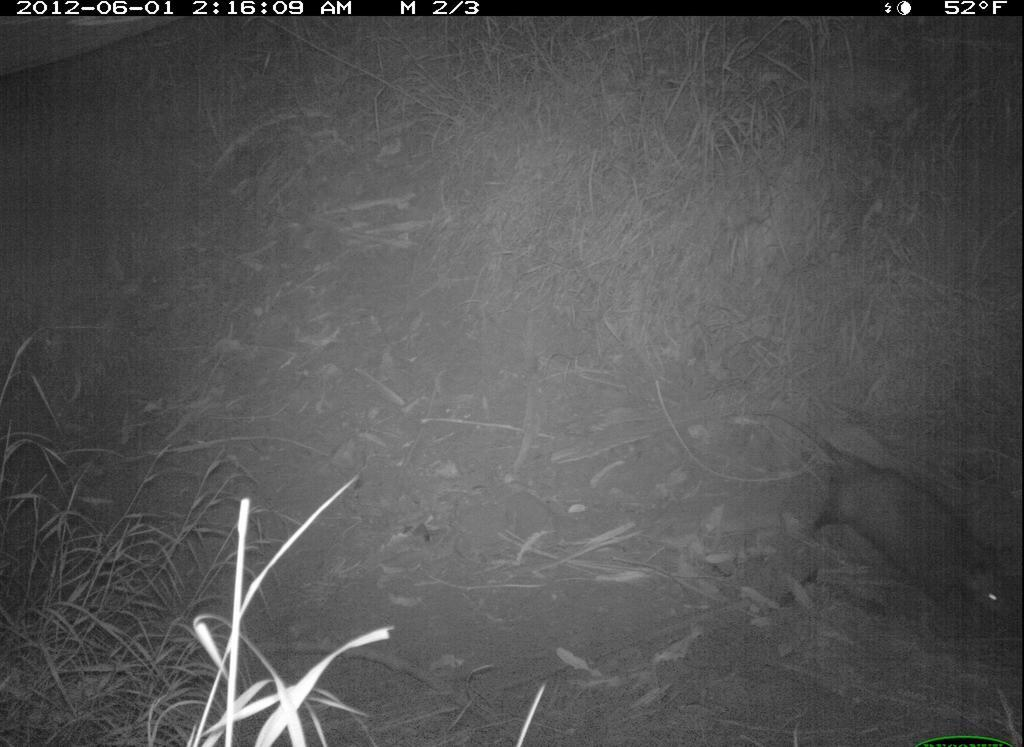opossum: (761, 408, 1014, 628)
